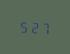five: (18, 19, 27, 33)
seven: (39, 20, 48, 34)
two: (29, 19, 38, 34)
